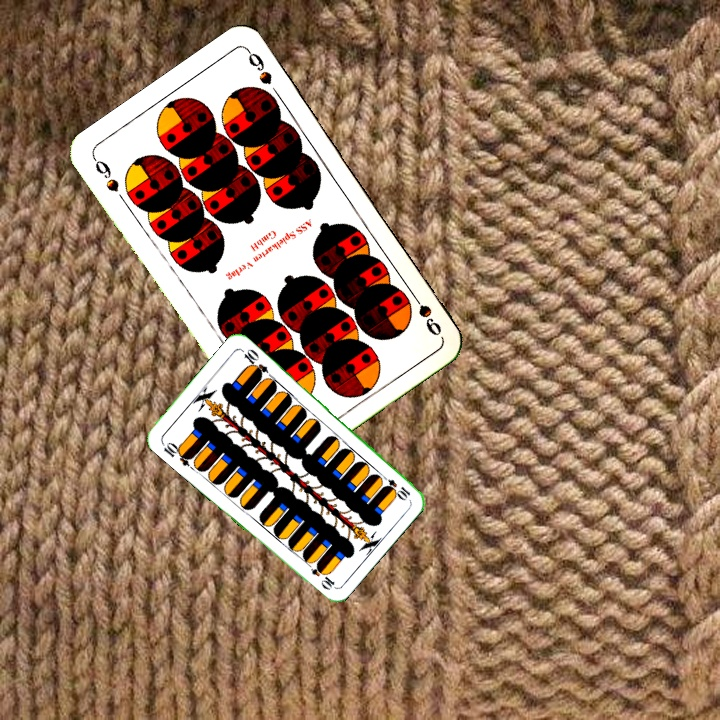E10: (376, 471, 413, 502), (158, 438, 195, 469)
S9: (405, 286, 445, 339), (88, 153, 122, 195)
